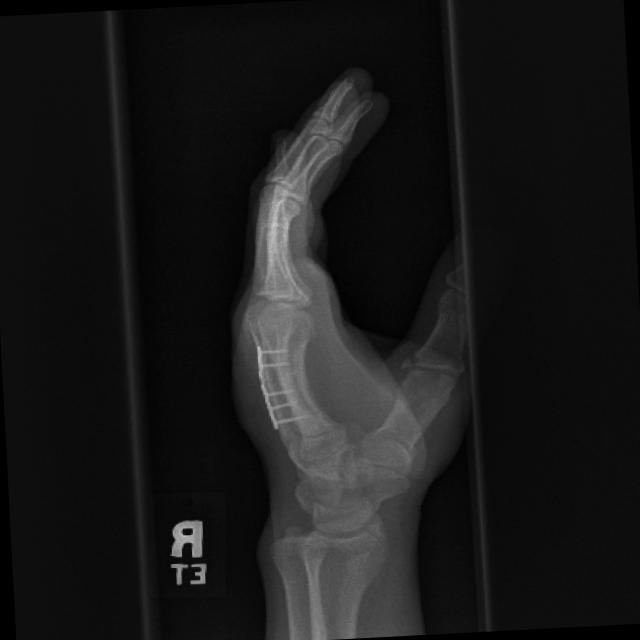fingers positive: (387, 346, 435, 388)
